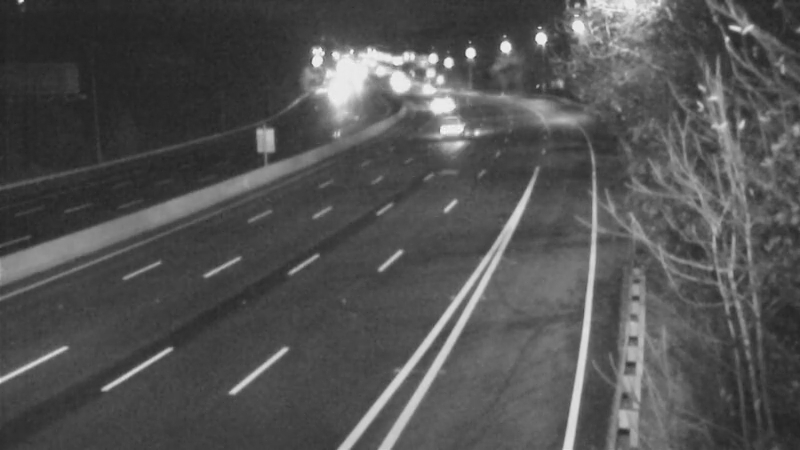vehicle: (403, 65, 453, 115), (414, 79, 464, 129), (424, 106, 474, 156)
